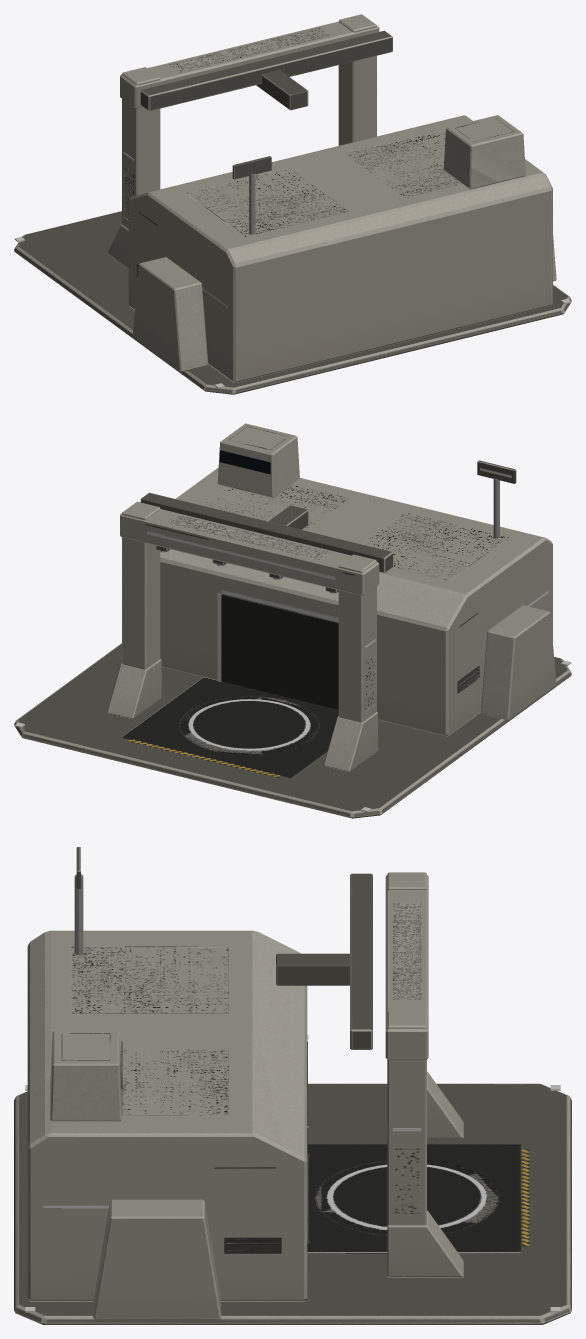
The model's file is ord_advbotlab.fbx.
3 views of the same model, one above another, from view 1: azimuth 30°, elevation 25°; view 2: azimuth 150°, elevation 25°; view 3: azimuth 270°, elevation 25° (orthographic). The views are drawn at different scales.
Visible parts, largest first — view 1: base_bar, radar_bar; view 2: base_bar, base_glow_running_bar, base_glow_power_bar, radar_bar; view 3: base_bar, base_glow_power_bar.
Part boxes in pixels (x1,y1,x2,y2): base_bar: (14, 14, 571, 394); radar_bar: (232, 156, 271, 179); base_bar: (14, 423, 571, 818); base_glow_running_bar: (14, 531, 571, 812); base_glow_power_bar: (160, 550, 338, 750); radar_bar: (477, 460, 516, 483); base_bar: (14, 872, 571, 1324); base_glow_power_bar: (307, 1126, 486, 1229).
Size of the model in its own units: 4000 by 2290 by 3910.
2 materials, 2 textured.
